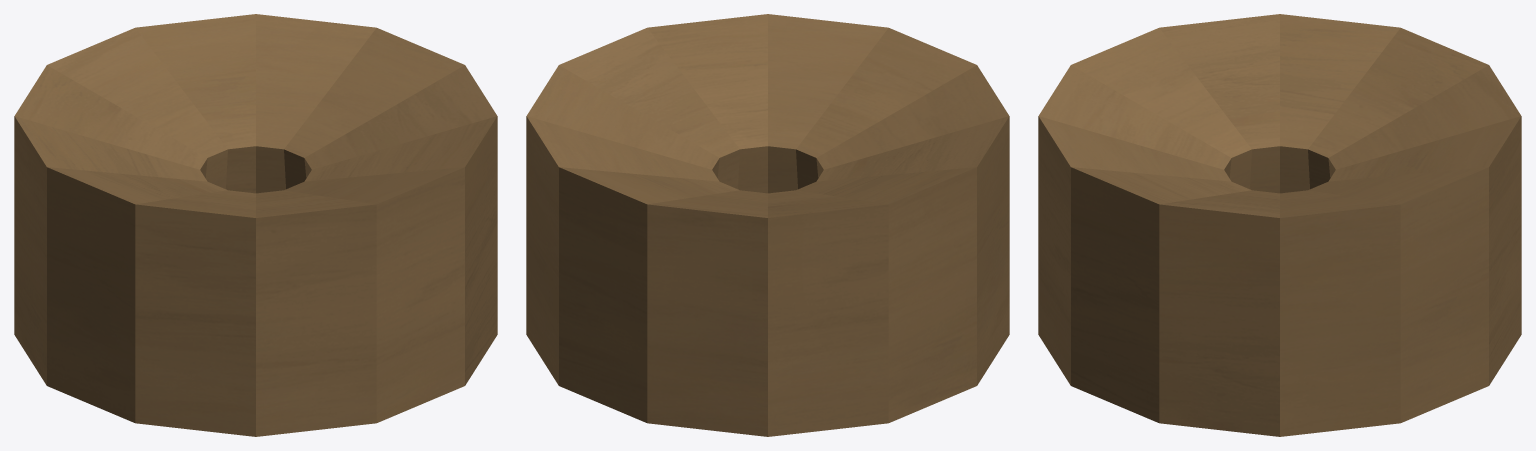
Rendered from DangerBowl.glb.
3 views of the same model, side by side, from view 1: azimuth 30°, elevation 25°; view 2: azimuth 150°, elevation 25°; view 3: azimuth 270°, elevation 25° (orthographic).
Visible parts, largest first — view 1: DangerBowl; view 2: DangerBowl; view 3: DangerBowl.
Boxes of the visible parts, x1,y1,x2,y2 form: DangerBowl: (14, 14, 497, 436); DangerBowl: (526, 14, 1009, 436); DangerBowl: (1038, 14, 1521, 436).
Bounding box in the file's own units: 20 × 10 × 20.
1 material, 1 textured.
